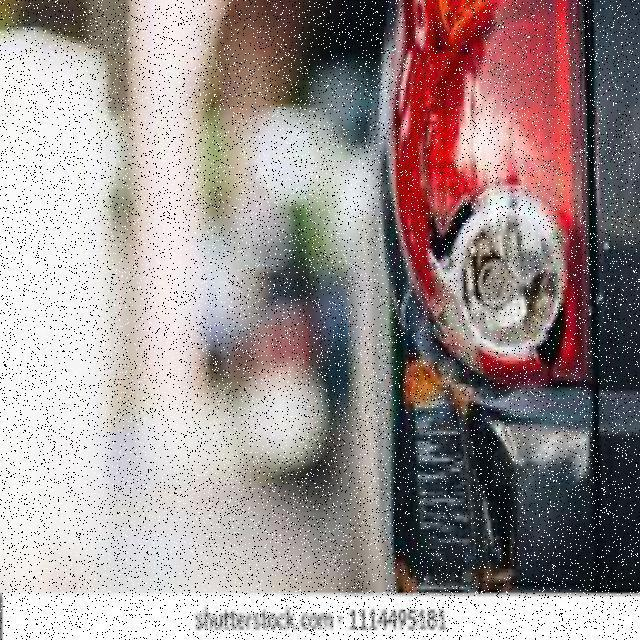Taillight-Damage: (392, 0, 614, 596)
